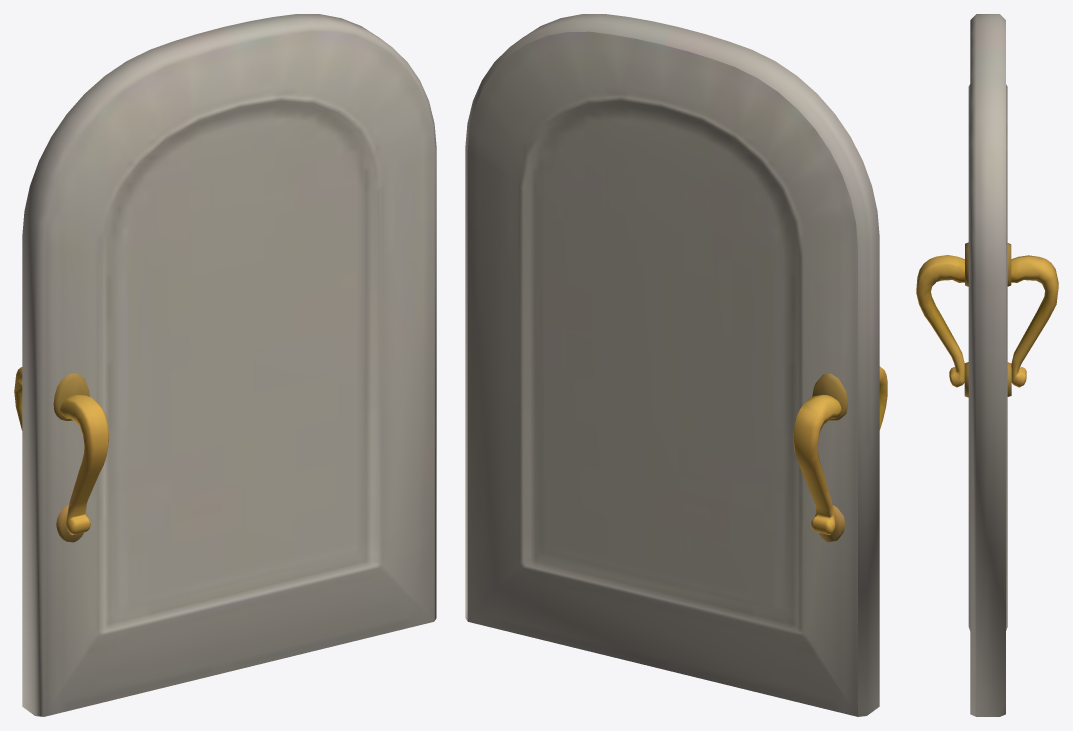
Rendered from door-simple-r.glb.
The picture shows the model from 3 angles, left to right: view 1: azimuth 30°, elevation 25°; view 2: azimuth 150°, elevation 25°; view 3: azimuth 270°, elevation 25°; orthographic projection. The views are drawn at different scales.
Bounding box in the file's own units: 12 × 18 × 4.01.
1 material, 1 textured.
